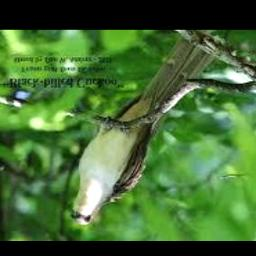Cuckoo: (71, 30, 224, 225)
